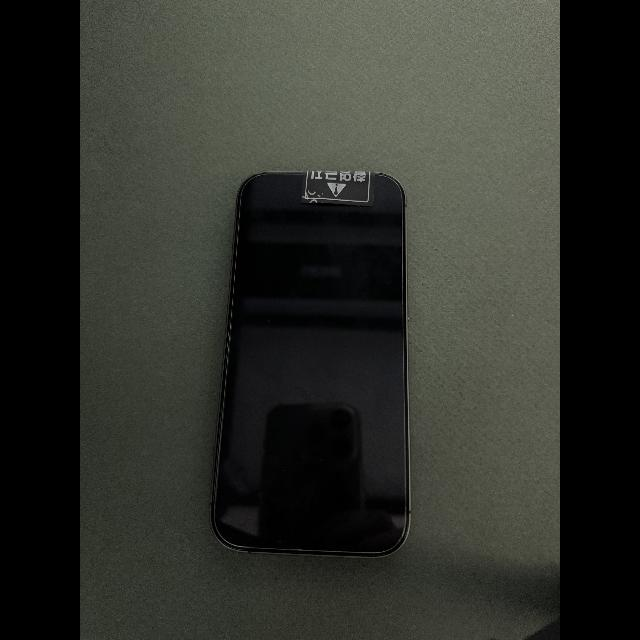phone: (211, 169, 411, 557)
sticker: (301, 168, 375, 206)
